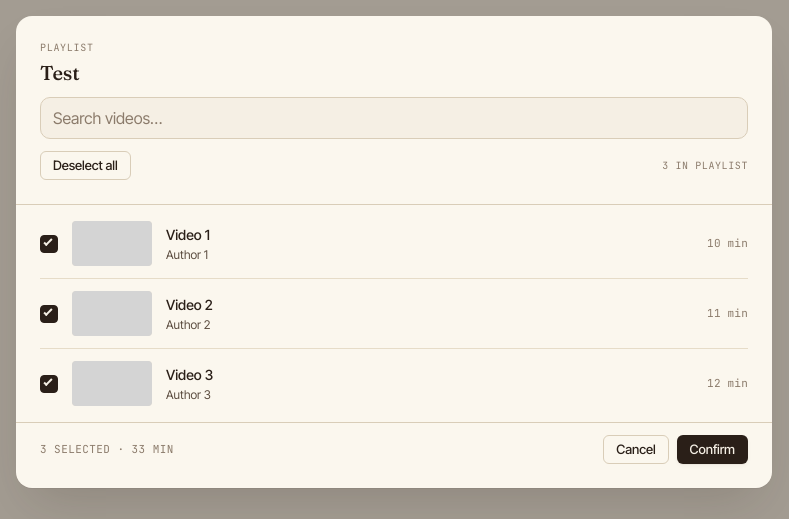
PlaylistPickerPopup › select all / deselect all toggles
Click the button "Deselect all" at (85, 166), box [40,151,131,180]
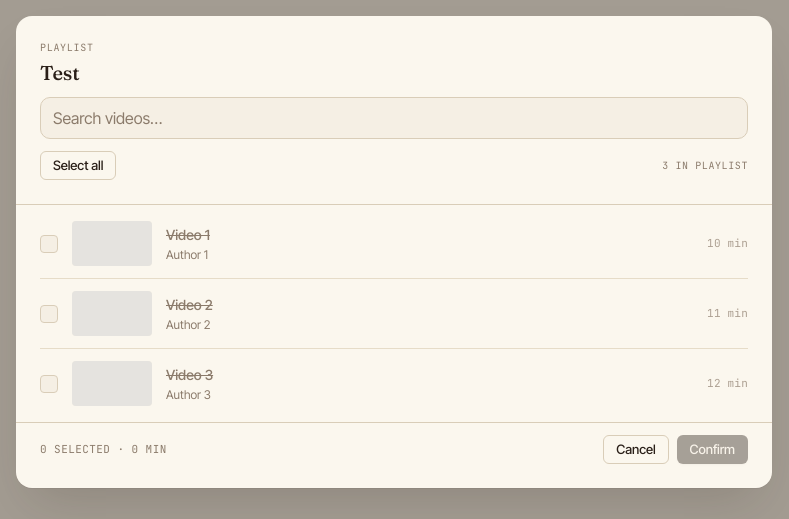
Expected: the text "0 selected · 0 min" is shown, [40,441,167,458]
Click the button "Select all" at (78, 166), box [40,151,116,180]
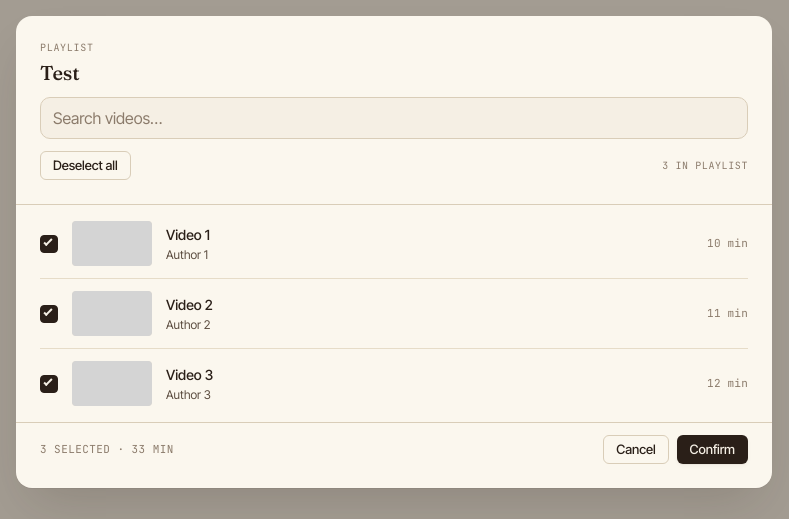
Expected: the text "3 selected · 33 min" is shown, [40,441,174,458]
